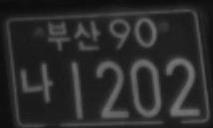0: (130, 58, 161, 118), (134, 17, 157, 48)
1: (63, 61, 92, 120)
2: (165, 56, 200, 116), (95, 59, 129, 119)
9: (108, 17, 130, 49)
나: (19, 61, 53, 104)
부산_O: (47, 20, 101, 52)
